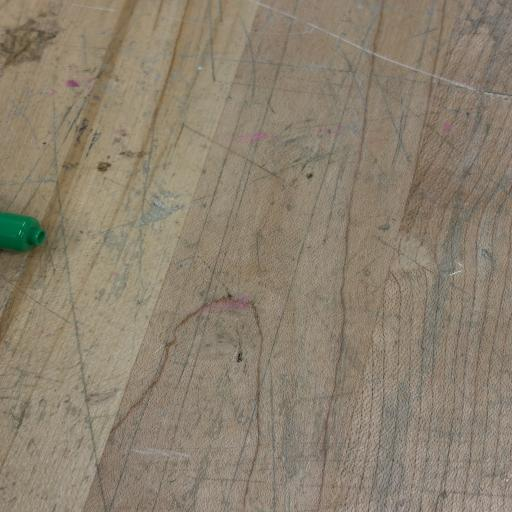Green-Lego: (0, 212, 46, 252)
